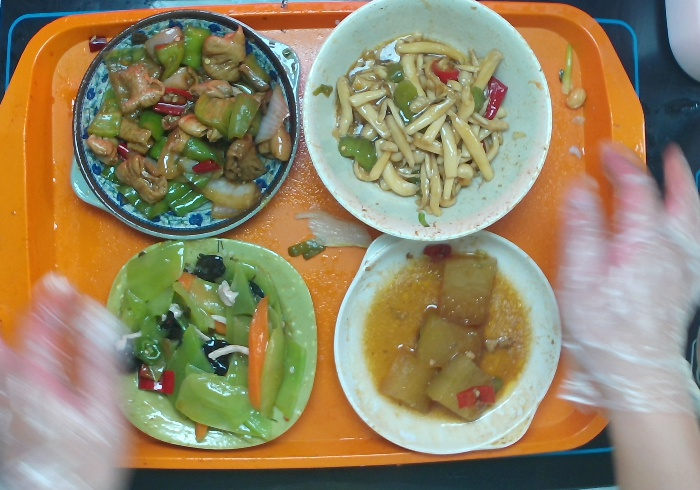NLDX-Bai_Se_Shuang_Er_Die: (329, 225, 567, 453)
NLDX-Bai_Se_Yuan_Wan: (298, 1, 555, 245)
NLDX-Lv_Hua_Fang_Die: (97, 235, 321, 455)
NLDX-Qing_Hua_Shuang_Er_Die: (63, 7, 302, 241)
